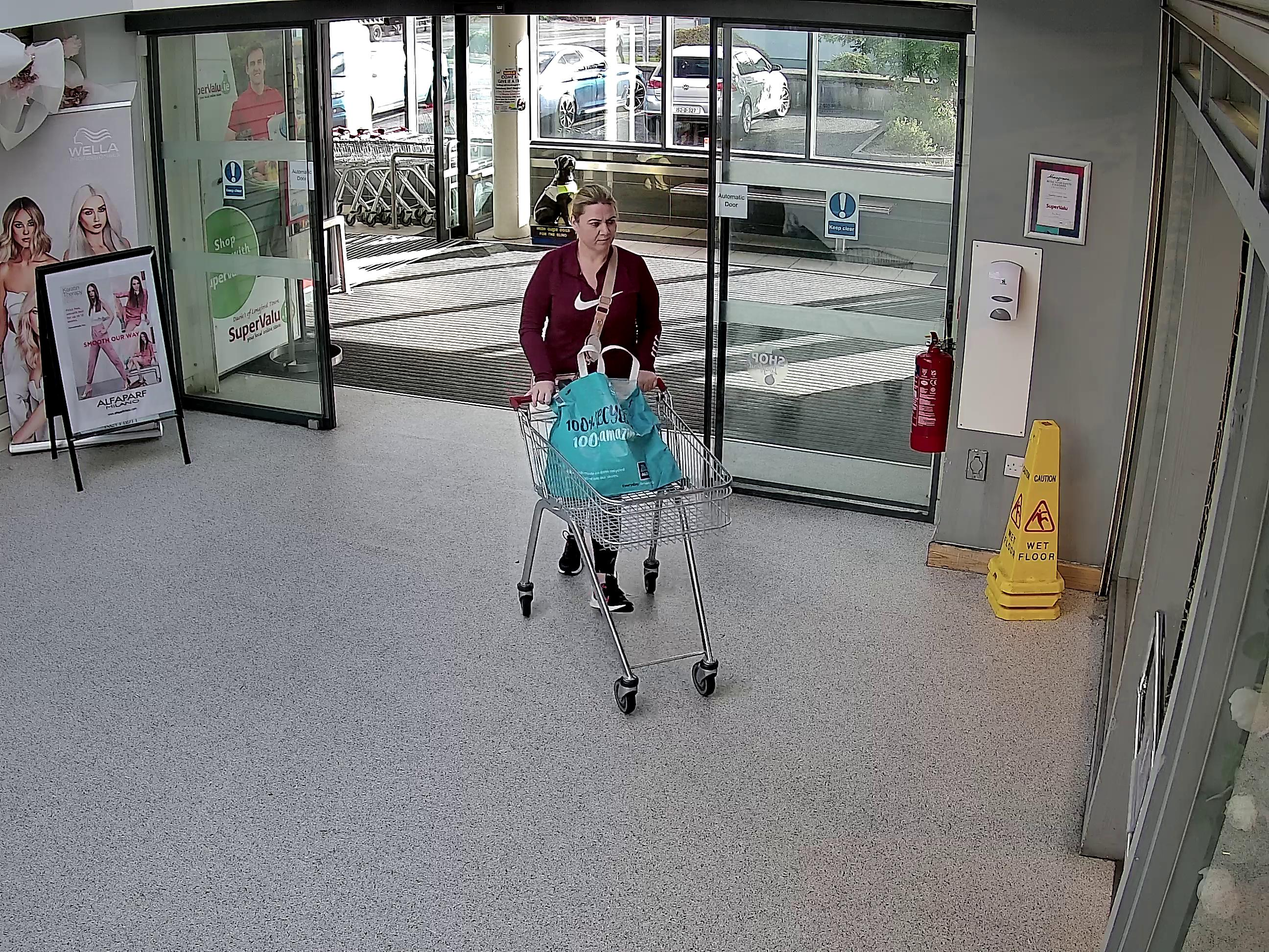empty-shopping-bags: (509, 378, 731, 713), (545, 352, 684, 502)
person: (519, 184, 663, 614)
person-with-basket-trolly-and-shopping-bag: (509, 182, 731, 713)
